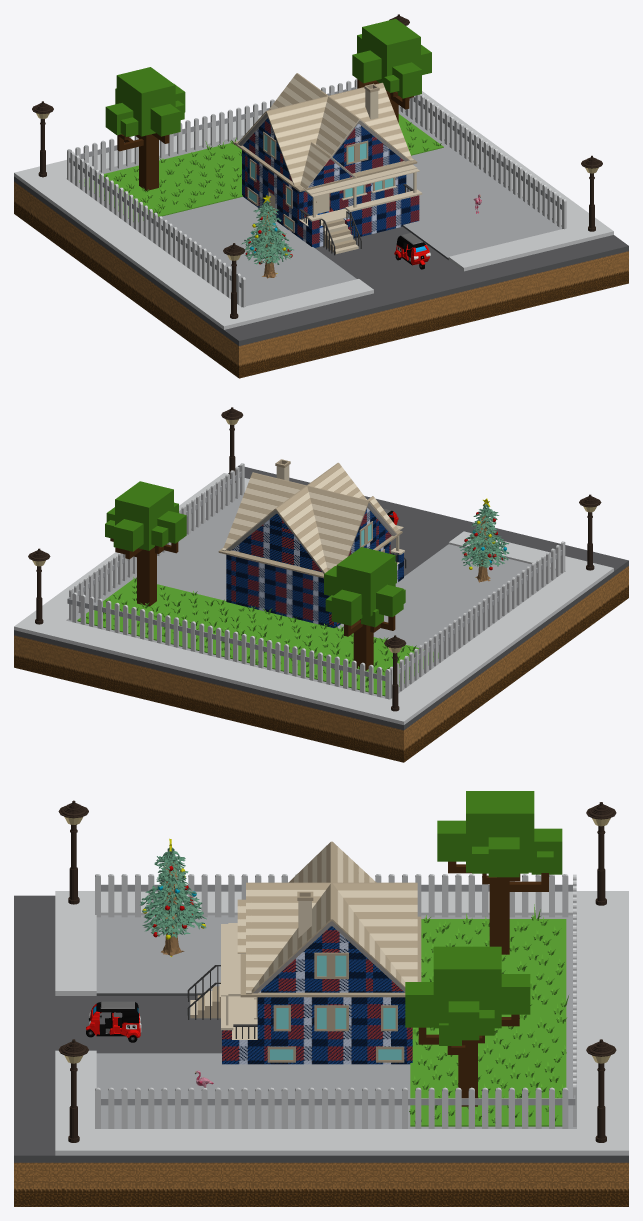
3 views of the same model, one above another, from view 1: azimuth 30°, elevation 25°; view 2: azimuth 150°, elevation 25°; view 3: azimuth 270°, elevation 25° (orthographic). The views are drawn at different scales.
Visible parts, largest first — view 1: Cube.004, Cube.171, OBJRANDOM_CHRISTMAS_TREE, VEHICLES_TUC_TUC; view 2: Cube.004, Cube.171, OBJRANDOM_CHRISTMAS_TREE; view 3: Cube.004, Cube.171, OBJRANDOM_CHRISTMAS_TREE, VEHICLES_TUC_TUC.
Part boxes in pixels (left/top/right/bottom): Cube.004: left=14, top=14, right=628, bottom=378; Cube.171: left=233, top=73, right=422, bottom=255; OBJRANDOM_CHRISTMAS_TREE: left=241, top=195, right=293, bottom=278; VEHICLES_TUC_TUC: left=394, top=233, right=430, bottom=269; Cube.004: left=14, top=407, right=628, bottom=762; Cube.171: left=218, top=459, right=406, bottom=627; OBJRANDOM_CHRISTMAS_TREE: left=459, top=498, right=509, bottom=582; Cube.004: left=14, top=791, right=628, bottom=1206; Cube.171: left=187, top=841, right=421, bottom=1064; OBJRANDOM_CHRISTMAS_TREE: left=140, top=838, right=206, bottom=956; VEHICLES_TUC_TUC: left=86, top=1001, right=141, bottom=1042.
Size of the model in its own units: 4000 by 1601 by 4000.
40 materials, 4 textured.
